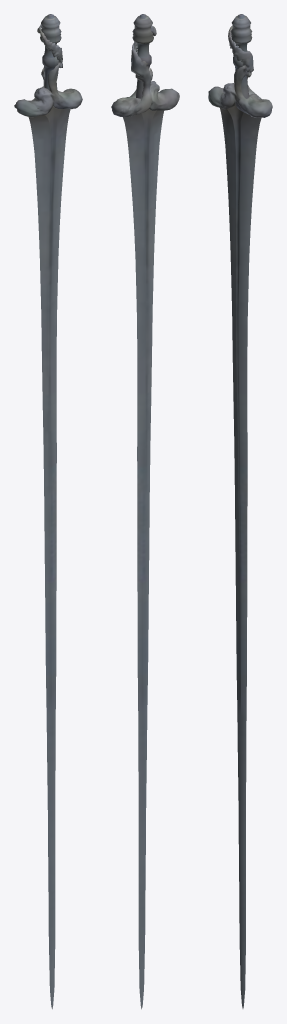
Rendered from weapon-wp_a_0217.glb.
3 renders of one model, left to right at view 1: azimuth 30°, elevation 25°; view 2: azimuth 210°, elevation 25°; view 3: azimuth 330°, elevation 25°, orthographic.
Visible parts, largest first — view 1: wp_a_0217_mesh; view 2: wp_a_0217_mesh; view 3: wp_a_0217_mesh.
Boxes of the visible parts, x1,y1,x2,y2 form: wp_a_0217_mesh: [14, 14, 82, 1009]; wp_a_0217_mesh: [111, 14, 179, 1009]; wp_a_0217_mesh: [208, 14, 272, 1008].
Size of the model in its own units: 0.1487 by 2.25 by 0.0607.
2 materials, 2 textured.
